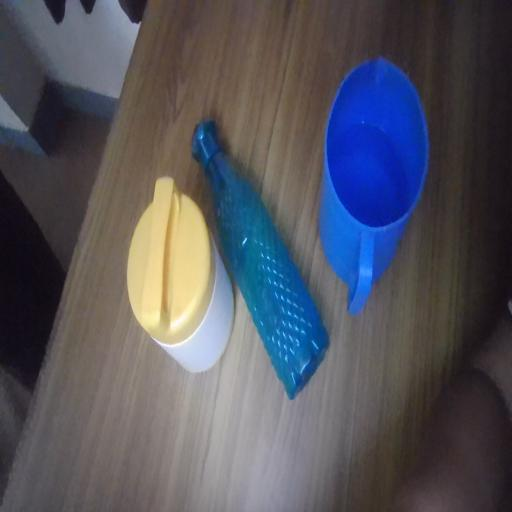Bottle: (199, 115, 350, 414)
